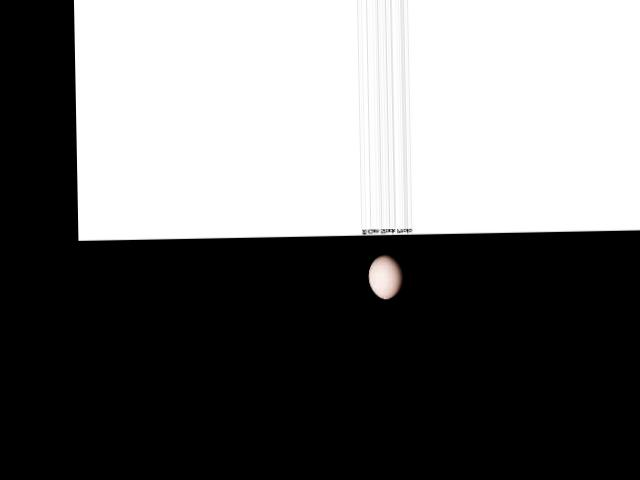egg: (368, 253, 403, 299)
